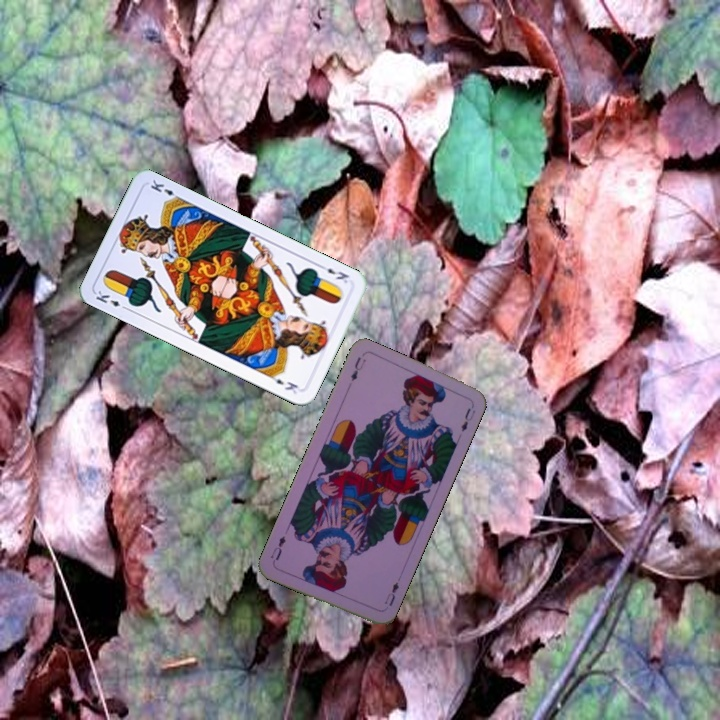EK: (91, 287, 131, 313), (315, 261, 352, 286)
EU: (380, 578, 402, 609), (346, 353, 368, 384)
